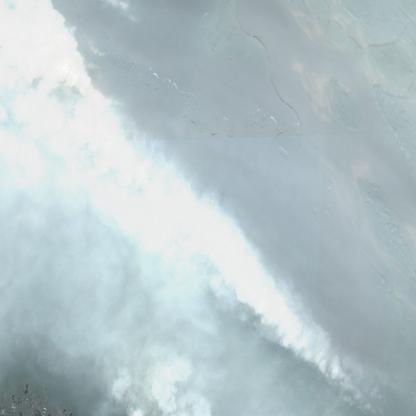fire: (82, 0, 382, 416)
